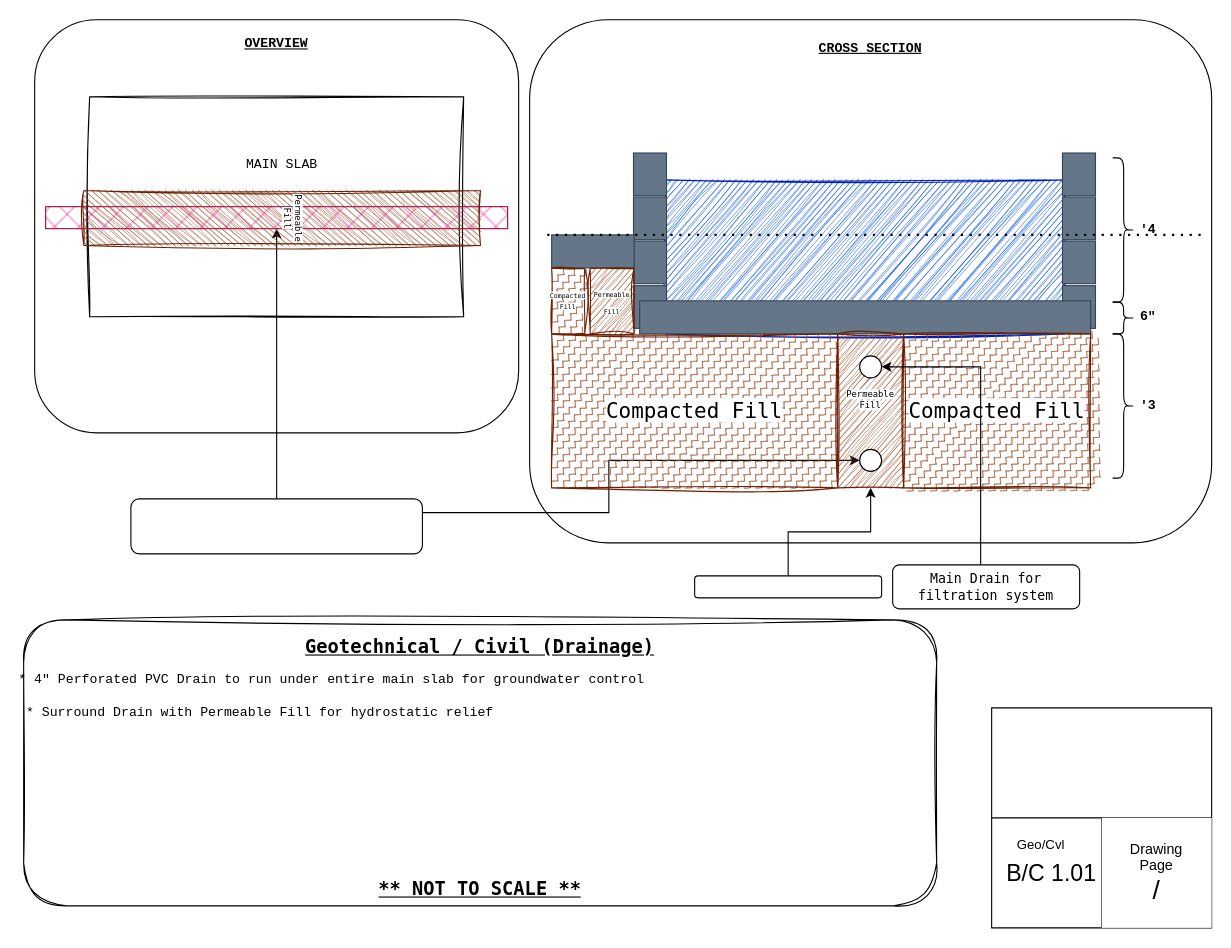
This 1231x948 diagram has some shape labels left out. Here are the shapes that lost their labels. From the top down, the box of each, then its label:
(665, 179, 1065, 334): POOL
(130, 498, 422, 554): Perforated 4" PVC Drain * "FRENCH DRAIN" for ground water
(694, 575, 882, 598): Main Drain Trench
(991, 707, 1212, 928): CMU POOL Cruz Wootten 17575 Parrot Drive Reno, Nevada 775.501.4398
